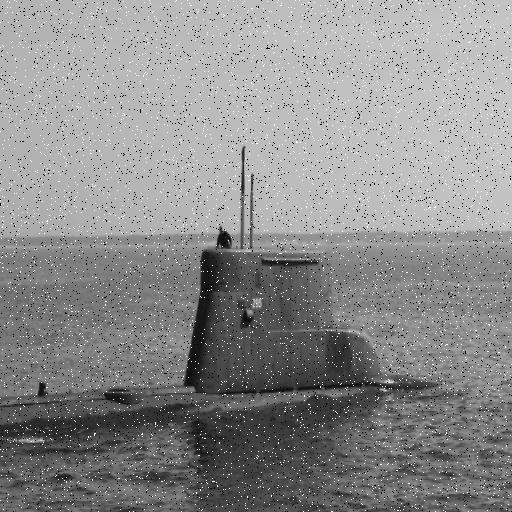submarine: (1, 248, 438, 454)
